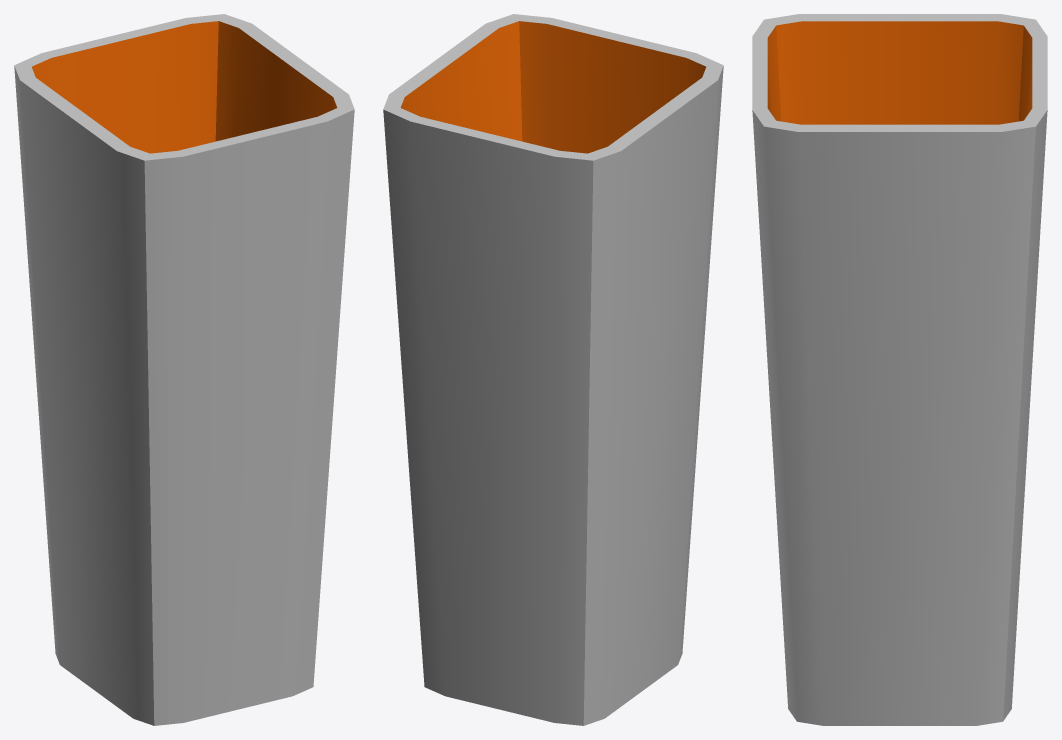
File: Vase_02_H.FBX
3 views of the same model, side by side, from view 1: azimuth 30°, elevation 25°; view 2: azimuth 150°, elevation 25°; view 3: azimuth 270°, elevation 25° (orthographic). The views are drawn at different scales.
Visible parts, largest first — view 1: Vase_02; view 2: Vase_02; view 3: Vase_02.
Boxes of the visible parts, x1=… form: Vase_02: x1=14, y1=14, x2=354, y2=725; Vase_02: x1=383, y1=14, x2=723, y2=725; Vase_02: x1=752, y1=14, x2=1047, y2=725.
Bounding box in the file's own units: 37.5 × 90 × 39.6.
